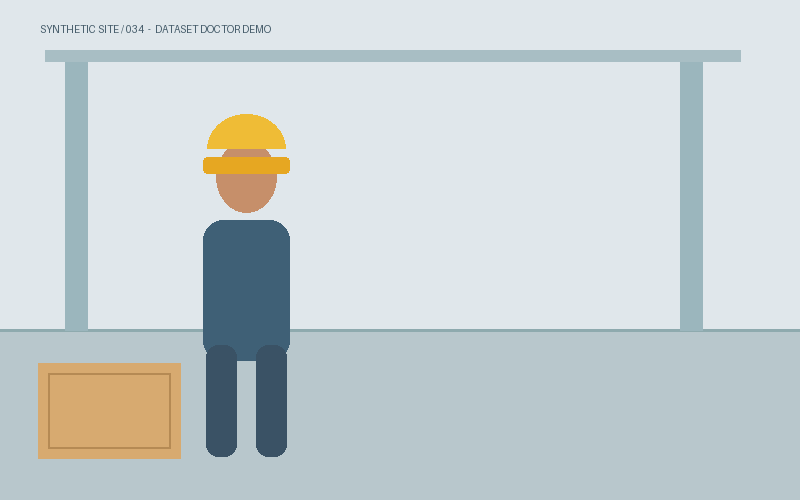Safety-Helmet: (203, 127, 289, 173)
